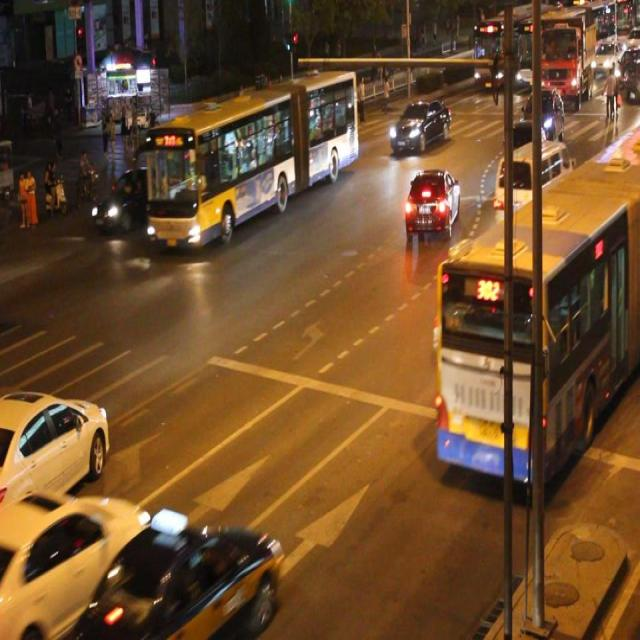car: (81, 516, 280, 640), (0, 489, 148, 640), (1, 387, 110, 536), (404, 164, 460, 239), (92, 168, 157, 230), (387, 99, 451, 157), (503, 120, 544, 186)
truck: (494, 143, 572, 223)
van: (439, 139, 640, 475), (146, 78, 356, 238)
